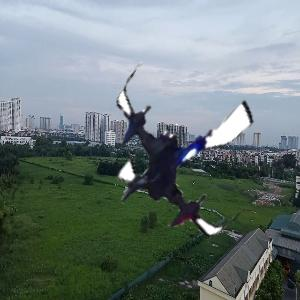drone: (90, 56, 277, 243)
